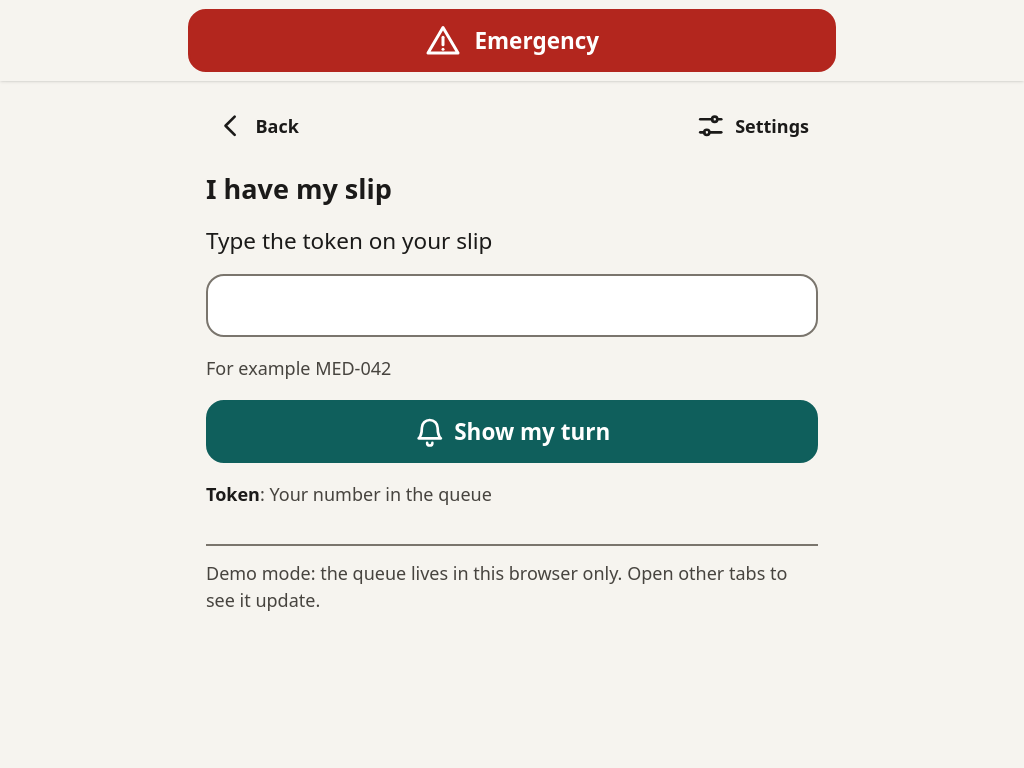
Test: I have my slip › says plainly when a token is not found
Type "ABC-123" into the field labelled "Type the token on your slip" at (512, 306), box [206,274,818,338]
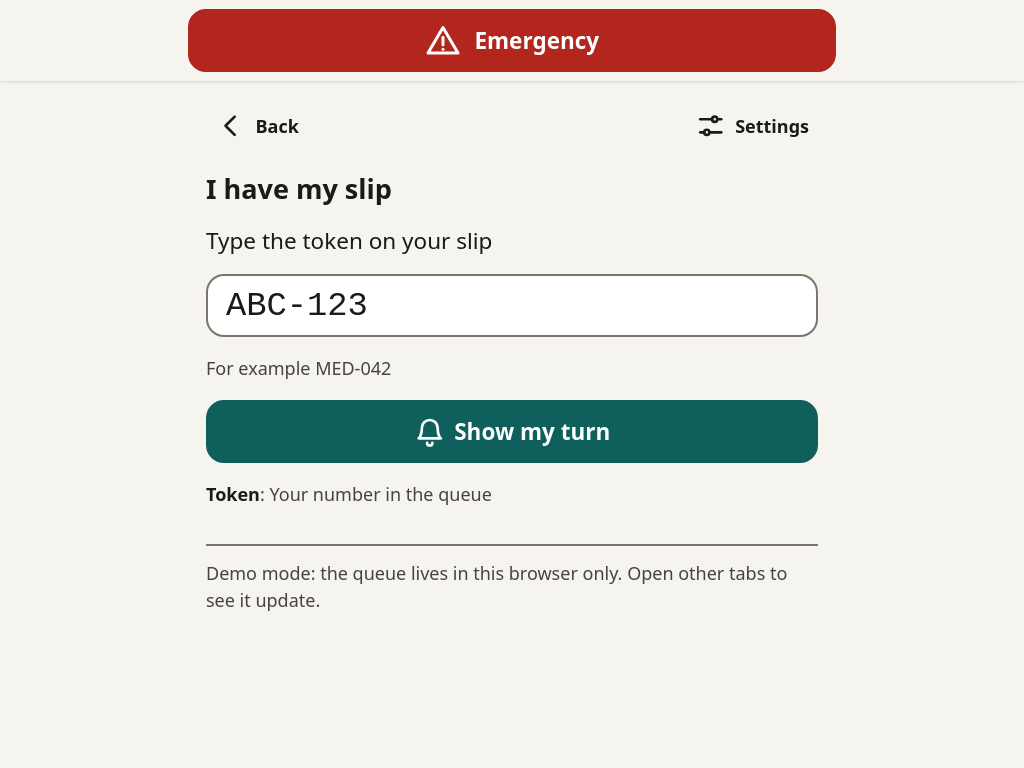
Click the button "Show my turn" at (512, 432), box [206,400,818,464]
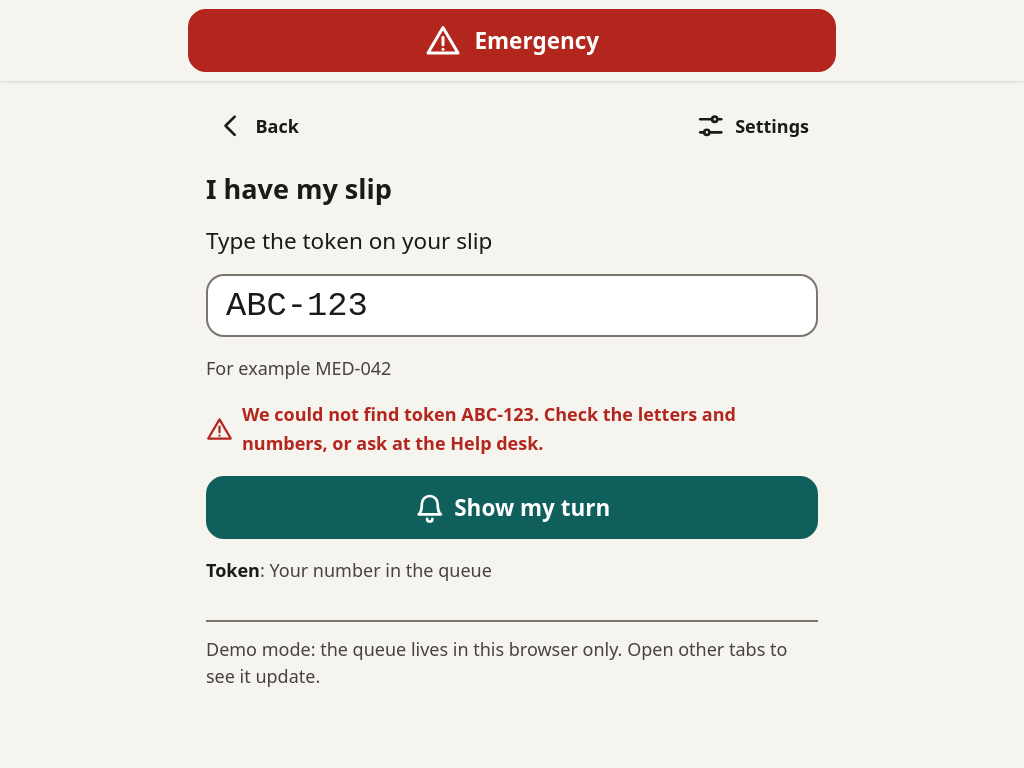
Check: the message shows "ABC-123", box [242,402,736,455]
